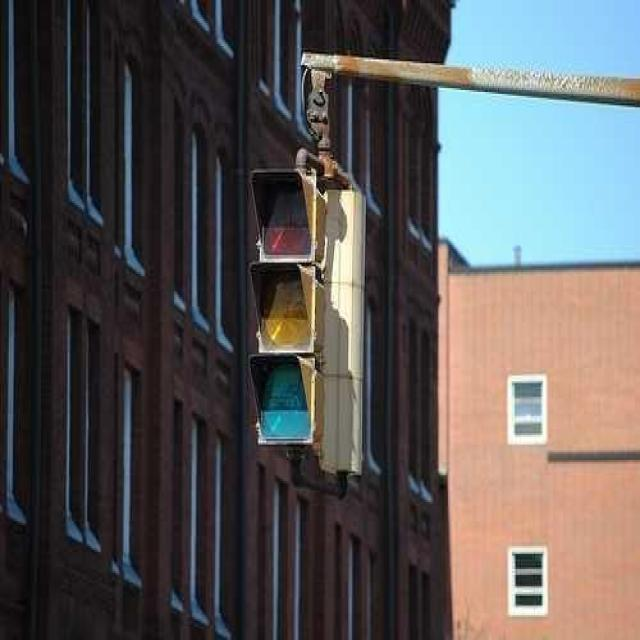Traffic Light -Off-: (237, 160, 334, 486)
